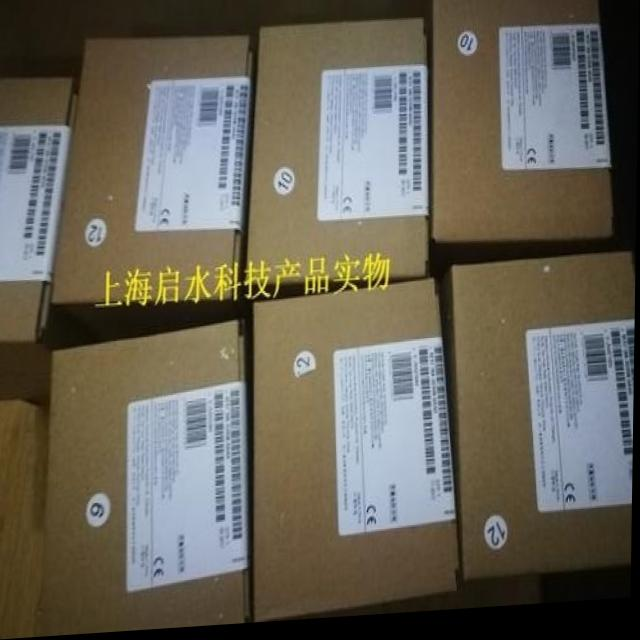box: (254, 283, 464, 626), (37, 320, 253, 638), (441, 260, 636, 592), (54, 36, 251, 345), (425, 0, 618, 285), (249, 23, 429, 298), (0, 77, 79, 406)
